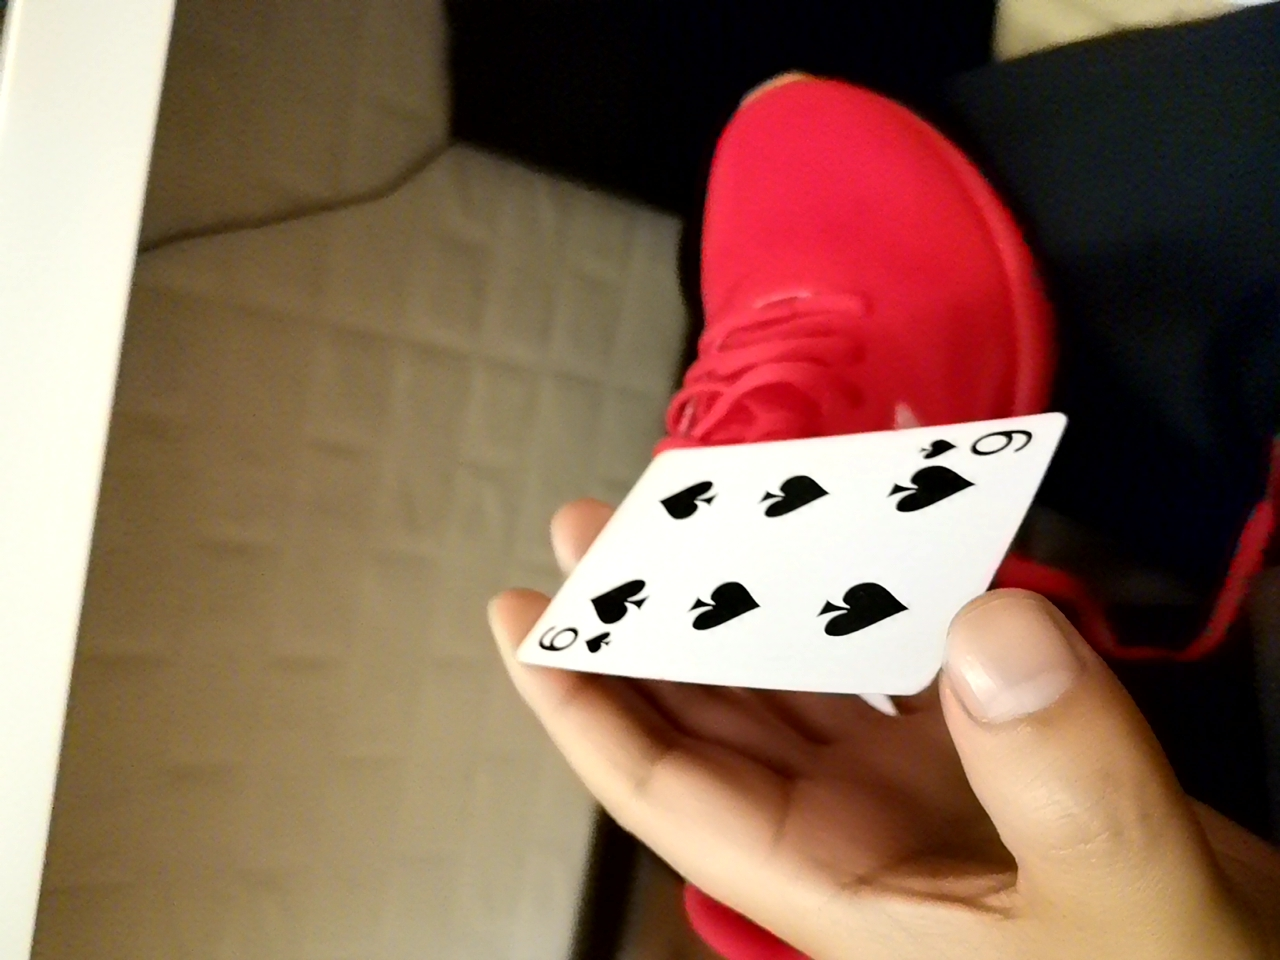ht 6: (502, 429, 1051, 713)
